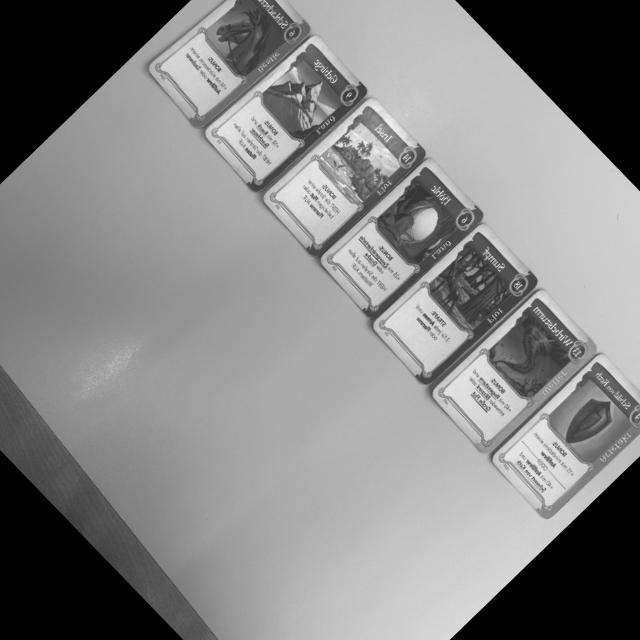Island: (262, 93, 432, 262)
Mountain: (203, 32, 374, 202)
Shield Of Keth: (486, 349, 640, 522)
Swamp: (368, 218, 544, 392)
Underground Caverns: (316, 150, 492, 326)
War Horse: (141, 0, 319, 127)
Whirlwind: (428, 285, 604, 460)
